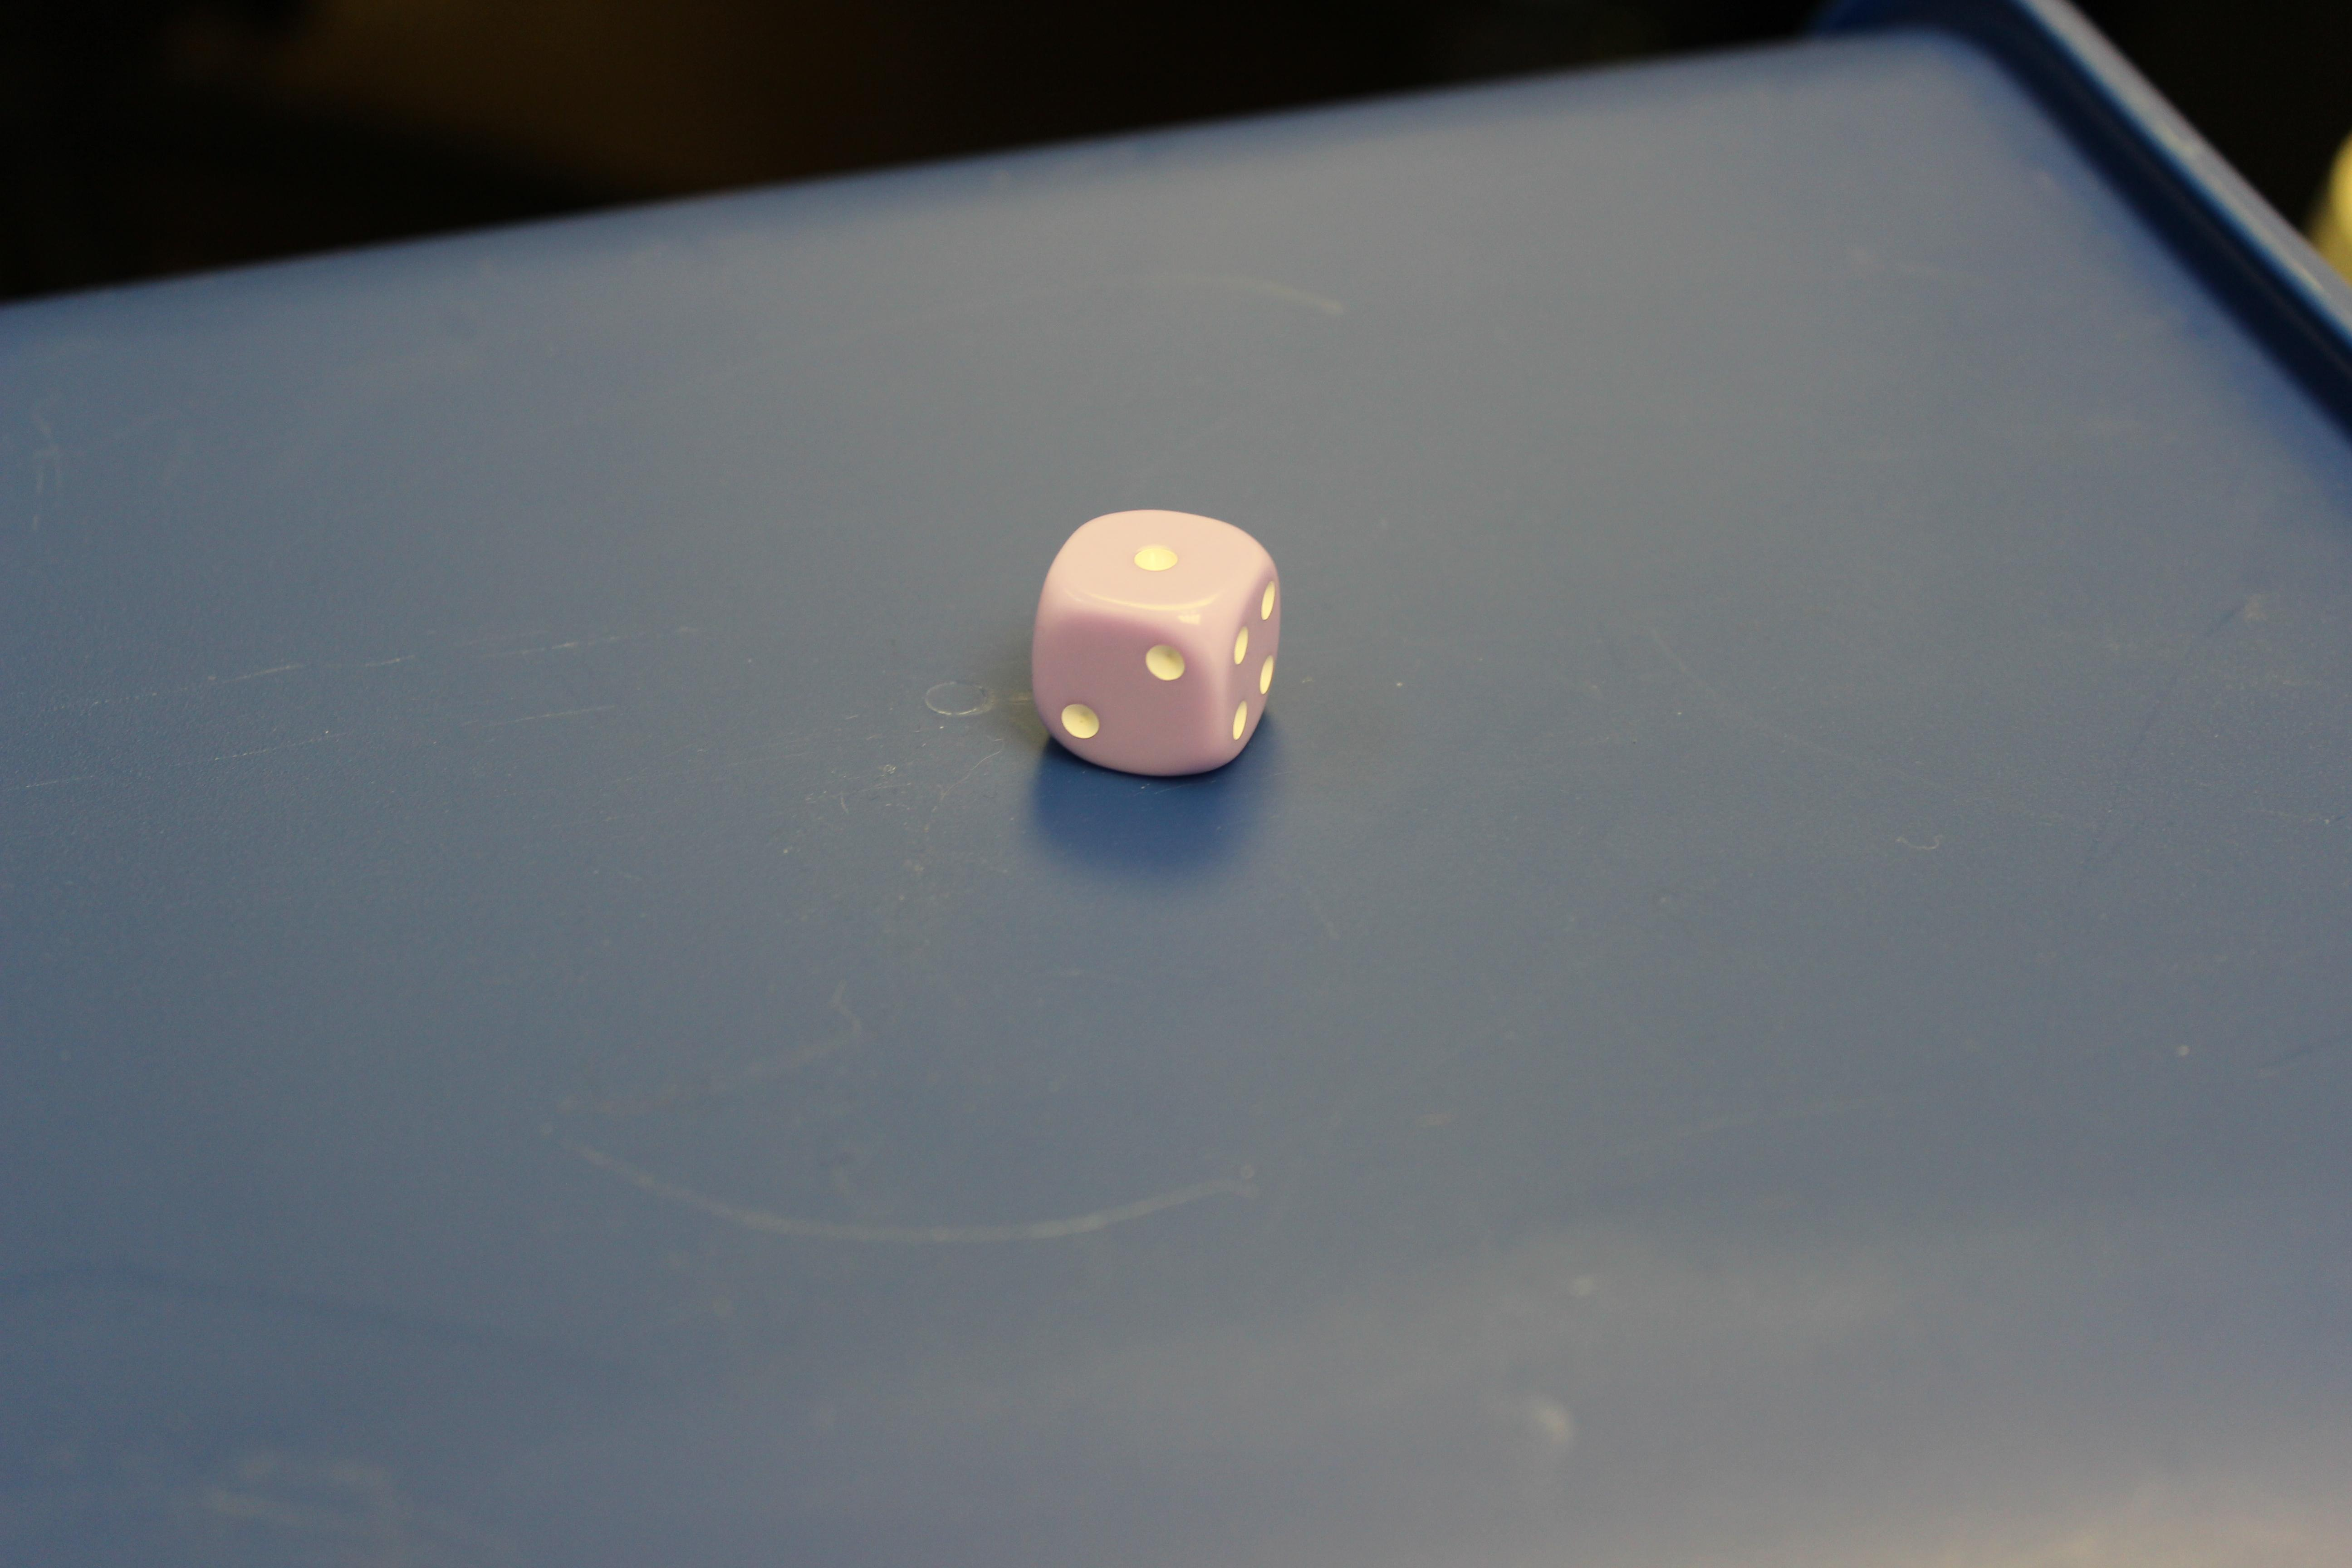lavenderDie: (984, 474, 1344, 828)
